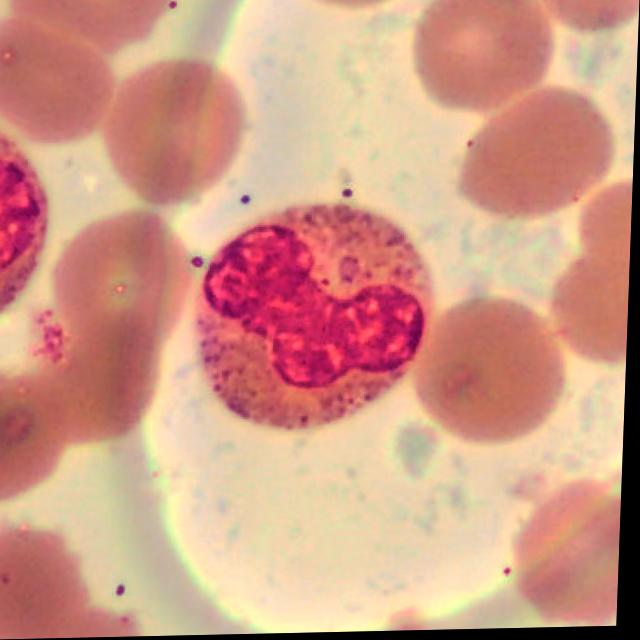Bastonete: (199, 202, 438, 434)
